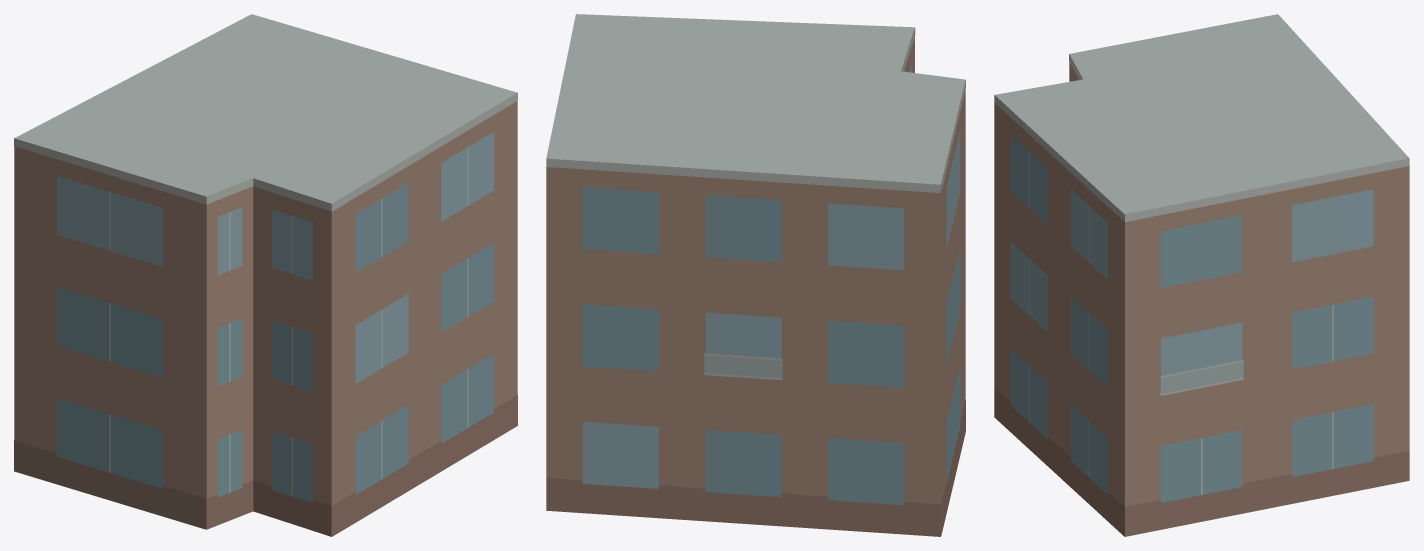
File: survey-upis-33007473.glb
The picture shows the model from 3 angles, left to right: view 1: azimuth 30°, elevation 25°; view 2: azimuth 150°, elevation 25°; view 3: azimuth 270°, elevation 25°; orthographic projection. The views are drawn at different scales.
Parts seen in each view (by area): view 1: survey-upis-33007473.tmp; view 2: survey-upis-33007473.tmp; view 3: survey-upis-33007473.tmp.
Boxes of the visible parts, left/top/right/bottom form: survey-upis-33007473.tmp: left=14, top=14, right=517, bottom=536; survey-upis-33007473.tmp: left=546, top=14, right=965, bottom=536; survey-upis-33007473.tmp: left=994, top=14, right=1409, bottom=536.
Size of the model in its own units: 13.61 by 10.2 by 11.92.
